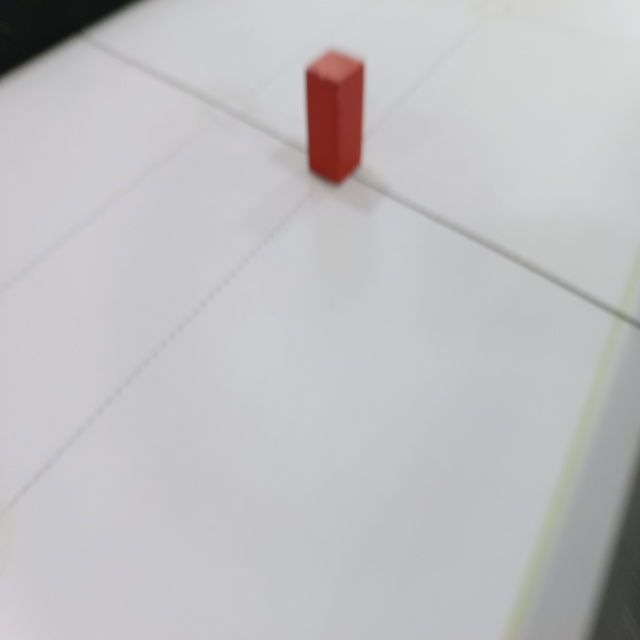red rectangular prism: (300, 51, 373, 189)
